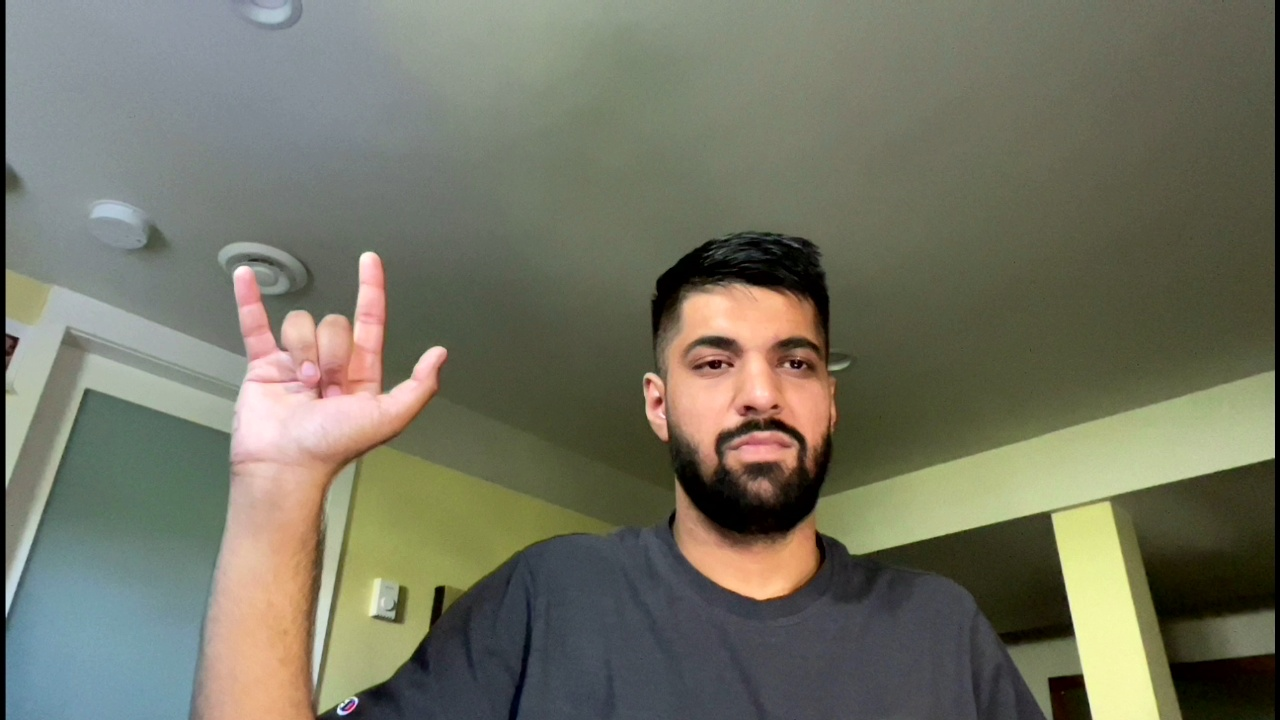HowYouDoing!: (199, 245, 454, 481)
